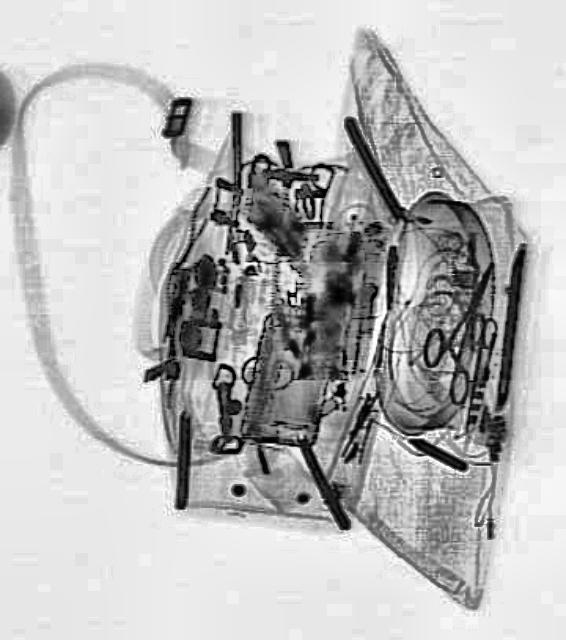Scissors: (406, 248, 516, 406), (450, 309, 497, 439)
